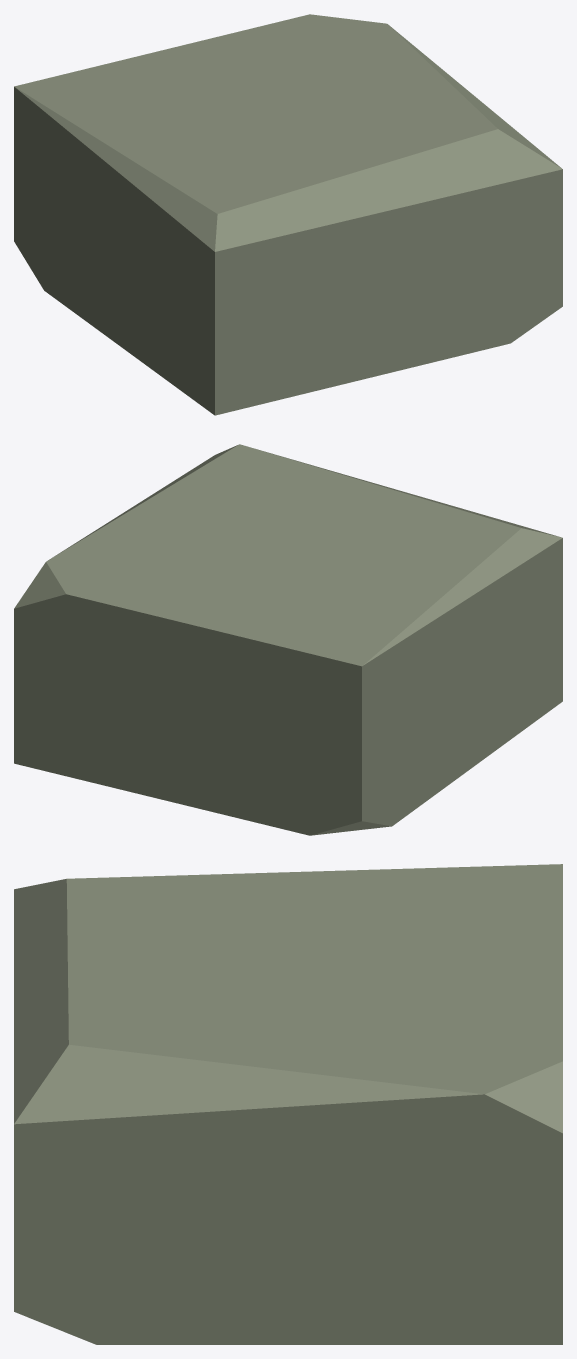
The model's file is loose_stone_small_secondary.fbx.
3 views of the same model, one above another, from view 1: azimuth 30°, elevation 25°; view 2: azimuth 150°, elevation 25°; view 3: azimuth 270°, elevation 25° (orthographic). The views are drawn at different scales.
Parts seen in each view (by area): view 1: loose_stone_small_secondary; view 2: loose_stone_small_secondary; view 3: loose_stone_small_secondary.
Boxes of the visible parts, left/top/right/bottom form: loose_stone_small_secondary: left=14, top=14, right=562, bottom=415; loose_stone_small_secondary: left=14, top=444, right=562, bottom=835; loose_stone_small_secondary: left=14, top=864, right=562, bottom=1344.
Bounding box in the file's own units: 50 × 27.17 × 50.
